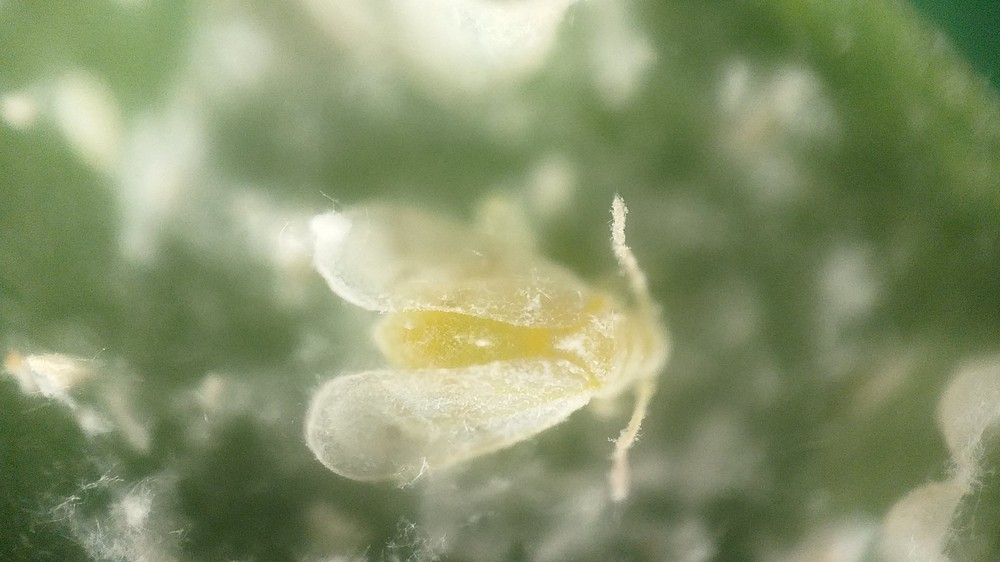Mosca Blanca: (281, 172, 688, 519)
